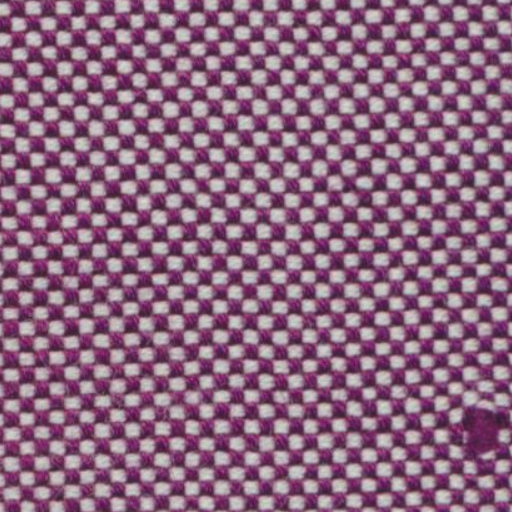MianQiu: (437, 384, 504, 468)
